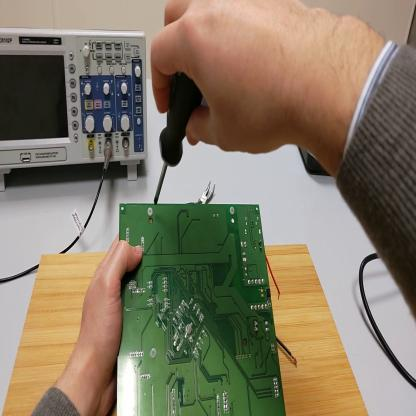hand: (148, 3, 308, 156), (78, 235, 143, 395)
low voltage board: (118, 203, 299, 416)
oscilloscope: (3, 33, 152, 193)
pliers: (206, 183, 217, 200)
screwdriver-: (153, 73, 203, 206)
welder station: (301, 149, 331, 177)
working area: (4, 246, 372, 413)
